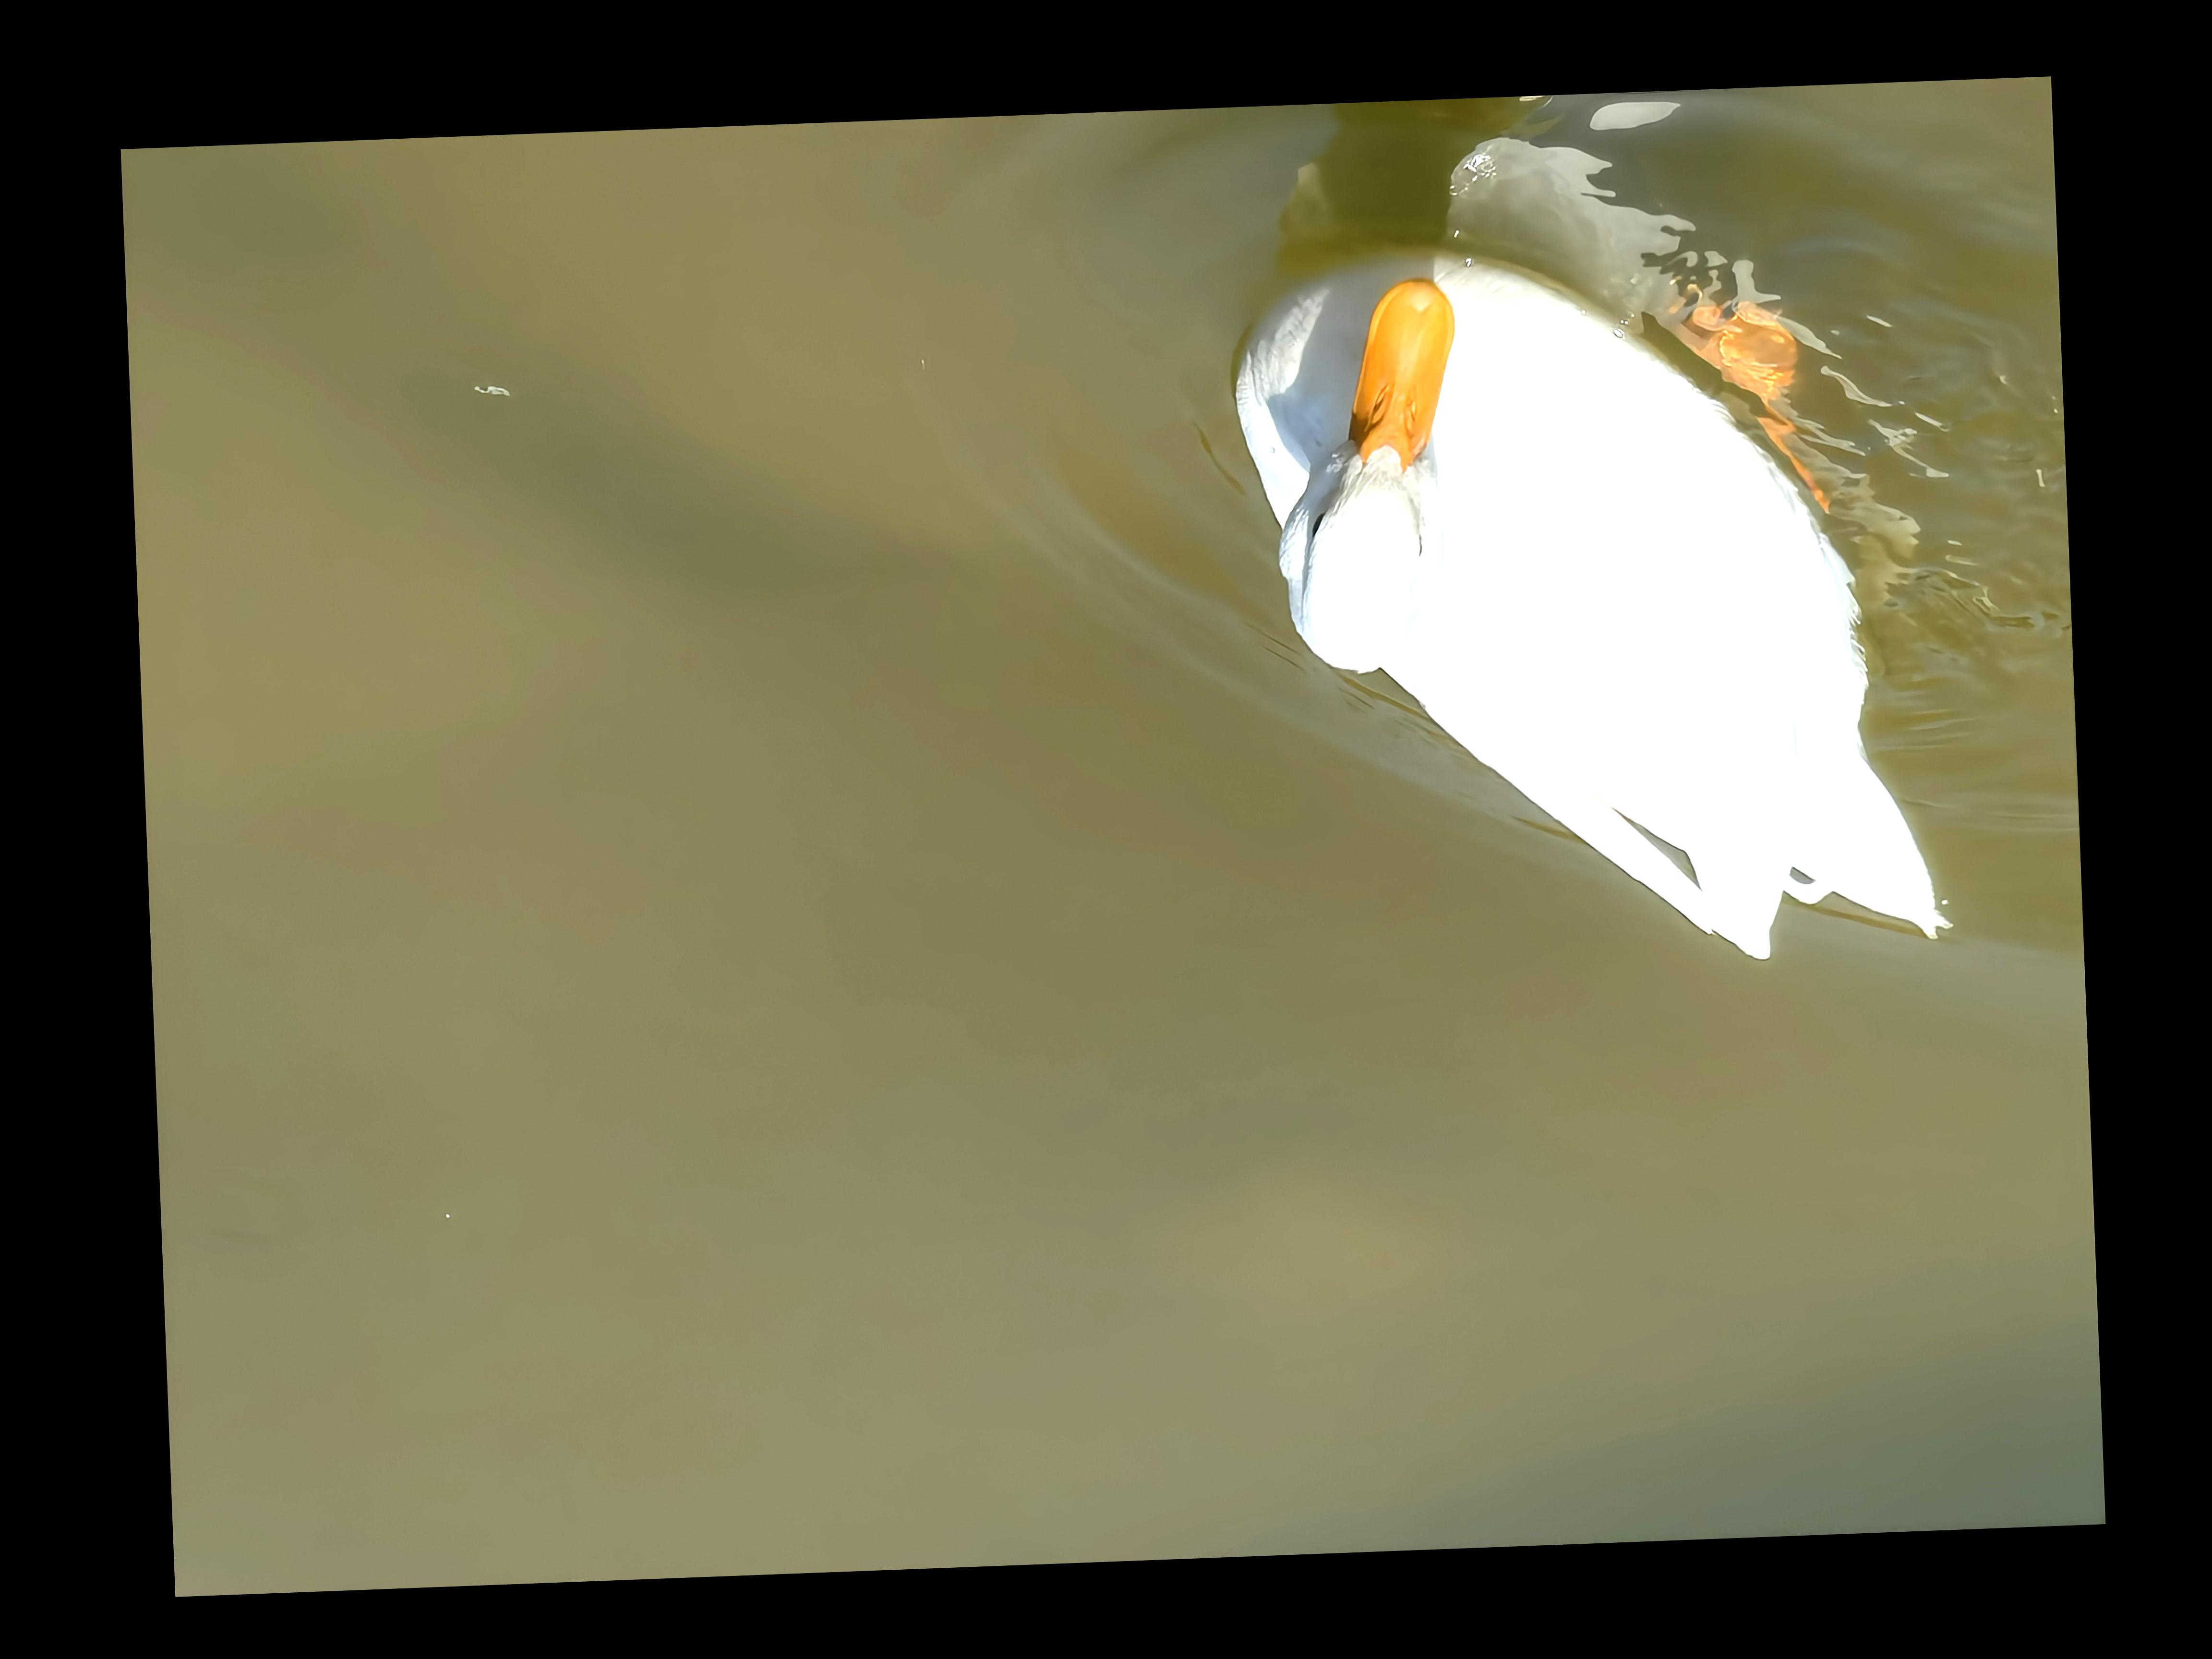duck: (1181, 185, 1989, 1000)
